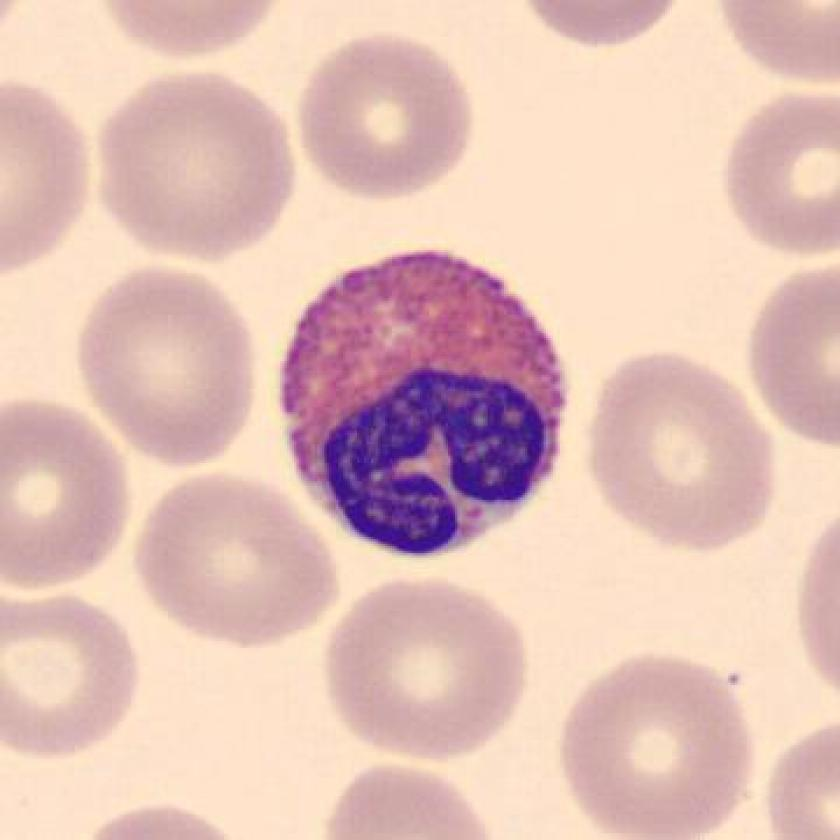eosinophil: (267, 242, 580, 563)
